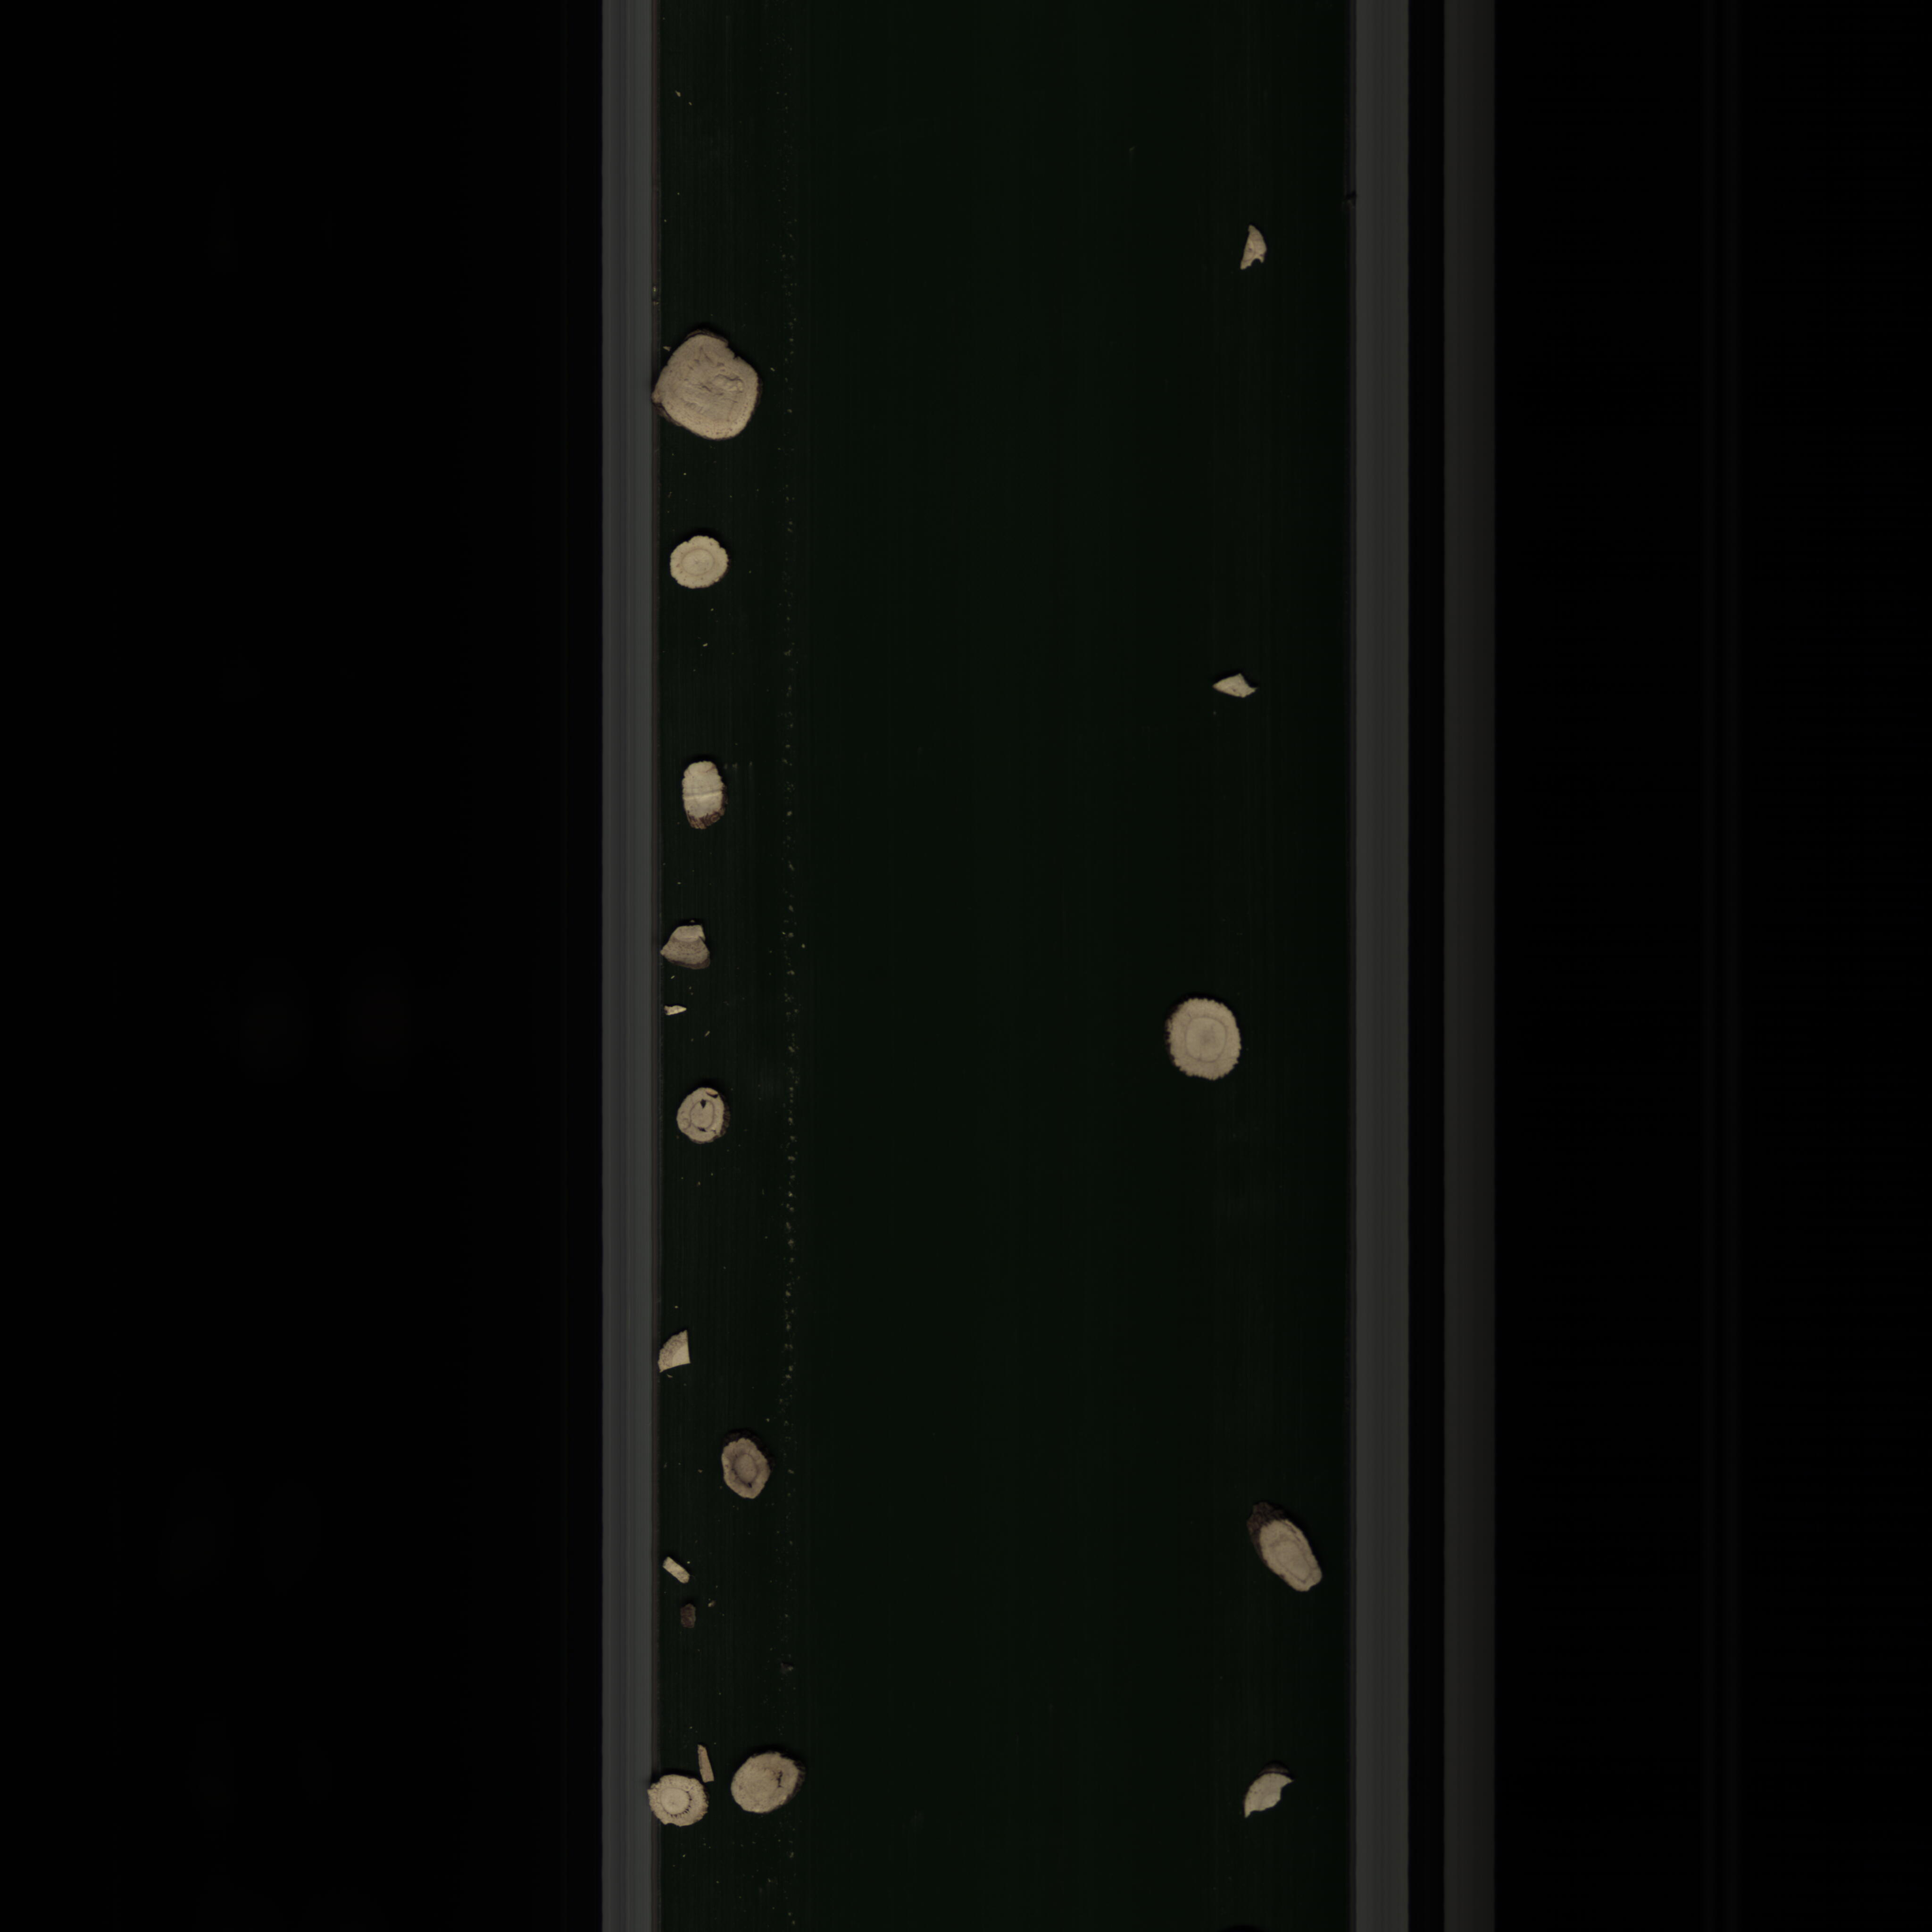debris: (1237, 1762, 1309, 1831), (649, 915, 718, 978), (653, 1323, 708, 1387), (1228, 216, 1272, 272), (1203, 665, 1269, 697), (658, 1546, 701, 1592), (692, 1739, 722, 1783)
distortion: (1228, 1502, 1334, 1599)
hole: (678, 1072, 740, 1157)
moldy: (715, 1433, 775, 1506)
